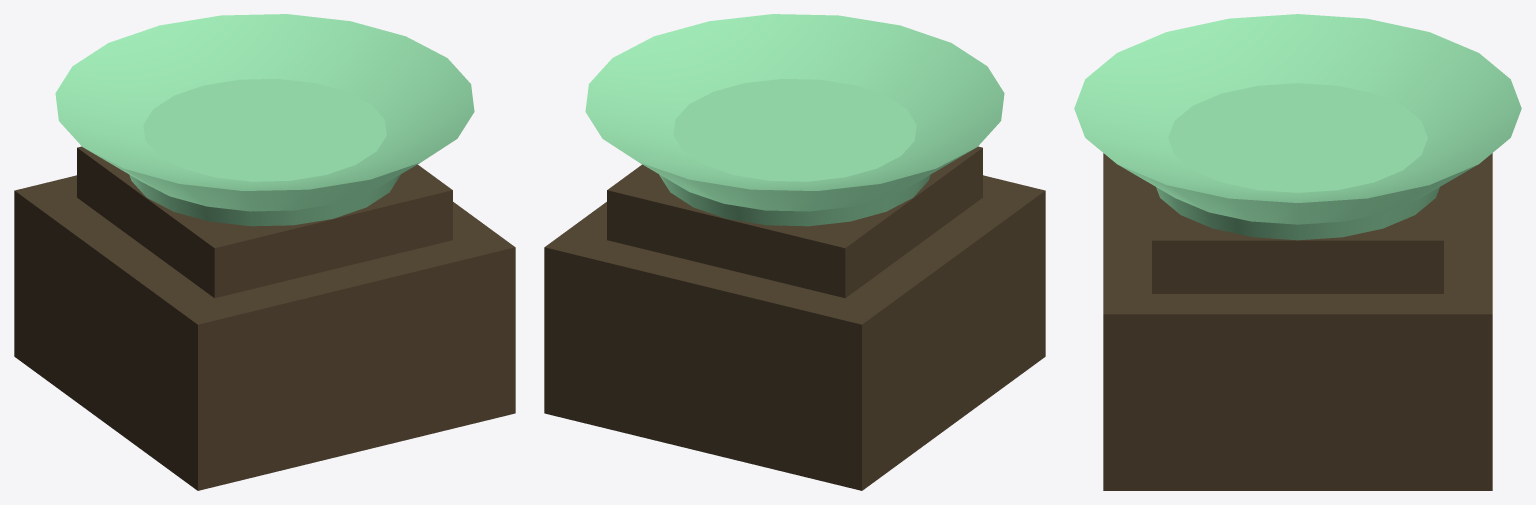
The model's file is plategreen.obj.
3 views of the same model, side by side, from view 1: azimuth 30°, elevation 25°; view 2: azimuth 150°, elevation 25°; view 3: azimuth 270°, elevation 25° (orthographic). The views are drawn at different scales.
Visible parts, largest first — view 1: plate3:polySurface3; view 2: plate3:polySurface3; view 3: plate3:polySurface3.
Part boxes in pixels (x1,y1,x2,y2): plate3:polySurface3: (14, 14, 515, 490); plate3:polySurface3: (544, 14, 1045, 490); plate3:polySurface3: (1074, 14, 1521, 490).
Size of the model in its own units: 1.15 by 0.85 by 1.15.
2 materials, 2 textured.
